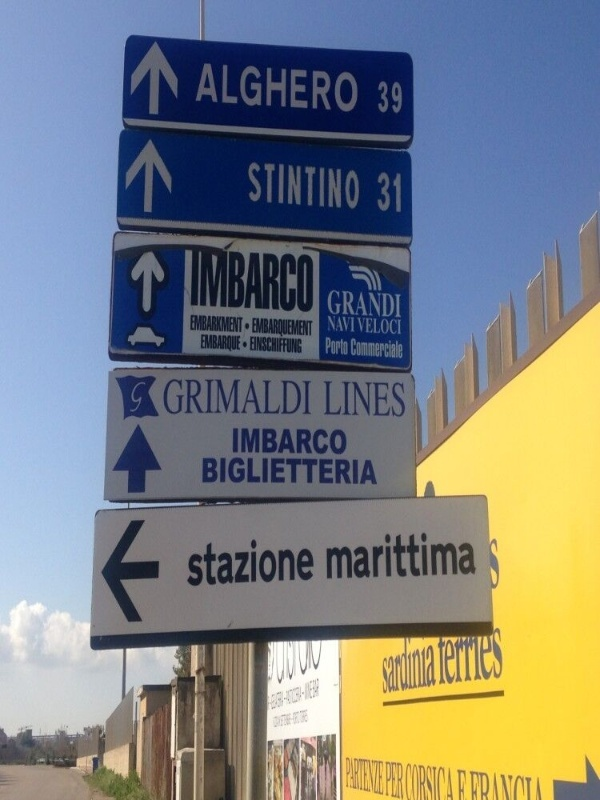text: (449, 618, 464, 685), (465, 618, 480, 685), (481, 618, 496, 685), (385, 630, 400, 695), (401, 630, 416, 695), (417, 630, 432, 695), (193, 249, 208, 313), (209, 249, 224, 313), (225, 249, 240, 313), (241, 249, 256, 313), (257, 249, 272, 313), (273, 249, 288, 313), (289, 249, 304, 313), (209, 64, 224, 113), (225, 64, 240, 113), (241, 64, 256, 113), (257, 64, 272, 113), (273, 64, 288, 113), (289, 64, 304, 113), (305, 64, 320, 113), (321, 64, 336, 113), (337, 64, 352, 113), (337, 531, 352, 580), (353, 531, 368, 580), (369, 531, 384, 580), (385, 531, 400, 580), (401, 531, 416, 580), (417, 531, 432, 580), (433, 531, 448, 580), (449, 531, 464, 580), (257, 162, 272, 209), (273, 162, 288, 209), (289, 162, 304, 209), (305, 162, 320, 209), (321, 162, 336, 209), (337, 162, 352, 209), (193, 538, 208, 585), (209, 538, 224, 585), (225, 538, 240, 585), (241, 538, 256, 585), (257, 538, 272, 585), (273, 538, 288, 585), (289, 538, 304, 585), (273, 641, 288, 688), (289, 641, 304, 688), (305, 641, 320, 688), (438, 618, 448, 685), (385, 172, 401, 213), (353, 758, 368, 795), (177, 379, 192, 415), (193, 379, 208, 415), (209, 379, 224, 415), (225, 379, 240, 415), (241, 379, 256, 415), (257, 379, 272, 415), (273, 379, 288, 415), (289, 379, 304, 415), (337, 381, 352, 417), (353, 381, 368, 417), (369, 381, 384, 417), (385, 381, 400, 417), (417, 764, 432, 800), (433, 764, 448, 800), (465, 531, 476, 580), (386, 762, 400, 800), (369, 758, 383, 795), (305, 249, 313, 313), (385, 81, 400, 114), (273, 678, 288, 711), (289, 678, 304, 711), (305, 678, 320, 711), (327, 531, 336, 580), (385, 291, 401, 318), (324, 381, 336, 417), (305, 538, 314, 585), (337, 291, 352, 318), (353, 291, 368, 318), (369, 291, 384, 318), (481, 773, 496, 800), (497, 773, 512, 800), (513, 773, 528, 800), (165, 379, 176, 415), (241, 429, 256, 455), (257, 429, 272, 455), (273, 429, 288, 455), (289, 429, 304, 455), (305, 429, 320, 455), (321, 429, 336, 455), (209, 459, 224, 485), (225, 459, 240, 485), (241, 459, 256, 485), (257, 459, 272, 485), (273, 459, 288, 485), (289, 459, 304, 485), (305, 459, 320, 485), (321, 459, 336, 485), (337, 459, 352, 485), (353, 459, 368, 485), (489, 537, 496, 590), (406, 764, 416, 800), (497, 618, 502, 685), (249, 162, 256, 209), (353, 162, 360, 209), (529, 773, 541, 800), (353, 338, 368, 358), (369, 338, 384, 358), (385, 338, 400, 358), (257, 318, 272, 338), (273, 318, 288, 338), (289, 318, 304, 338), (225, 334, 241, 352), (385, 318, 401, 335), (193, 315, 208, 333), (209, 315, 224, 333), (225, 315, 240, 333), (209, 334, 224, 352), (289, 710, 304, 728), (470, 773, 480, 800), (337, 429, 347, 455), (433, 630, 437, 695), (337, 316, 352, 333), (369, 318, 384, 335), (257, 336, 272, 353), (273, 336, 288, 353), (274, 710, 288, 728), (378, 172, 384, 213), (353, 64, 358, 113), (346, 758, 352, 795), (305, 379, 311, 415), (369, 459, 377, 485), (337, 337, 349, 354), (289, 336, 301, 353), (329, 291, 336, 318), (357, 318, 368, 335), (233, 429, 240, 455), (449, 764, 454, 800), (458, 770, 464, 800), (326, 337, 336, 354), (379, 81, 384, 114), (305, 318, 313, 338), (497, 537, 500, 590), (205, 64, 208, 113), (401, 381, 405, 417), (189, 538, 192, 585), (269, 641, 272, 688), (328, 316, 336, 333), (203, 459, 208, 485), (201, 334, 208, 352), (401, 762, 404, 800), (250, 336, 256, 353), (269, 678, 272, 711), (383, 630, 384, 695), (253, 318, 256, 338), (465, 770, 467, 800), (305, 710, 308, 728), (321, 641, 322, 688), (241, 315, 243, 333), (401, 81, 402, 114), (351, 338, 352, 358), (401, 338, 402, 358), (191, 315, 192, 333), (353, 316, 354, 333)
